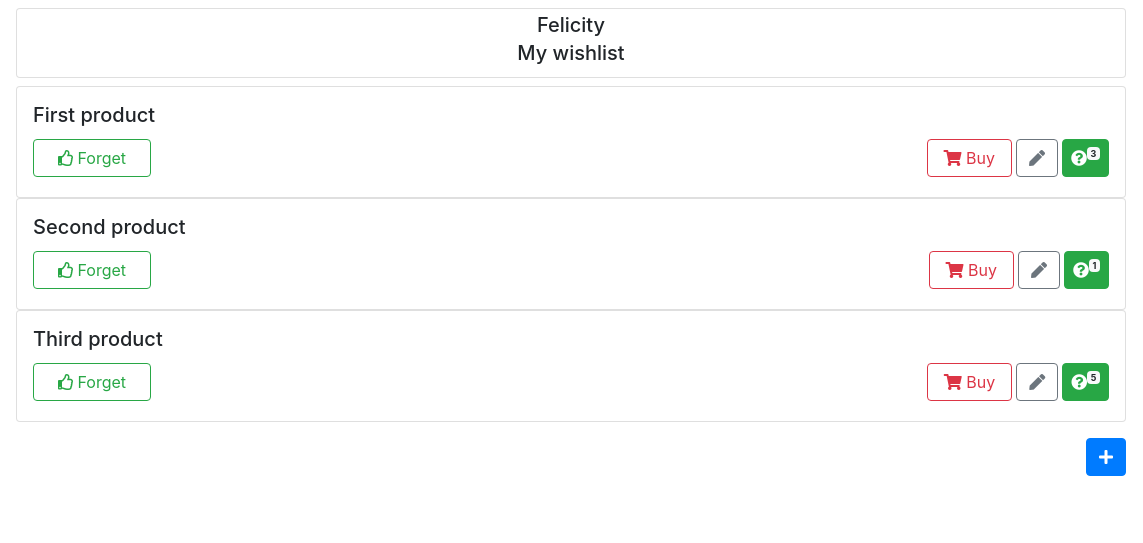
it: App acceptance tests › It is possible to edit an existing product in the list › when the button to edit an existing product is clicked › if in edit product page
Click the 1st button titled "Edit product": (1037, 158) [1016, 139, 1058, 177]
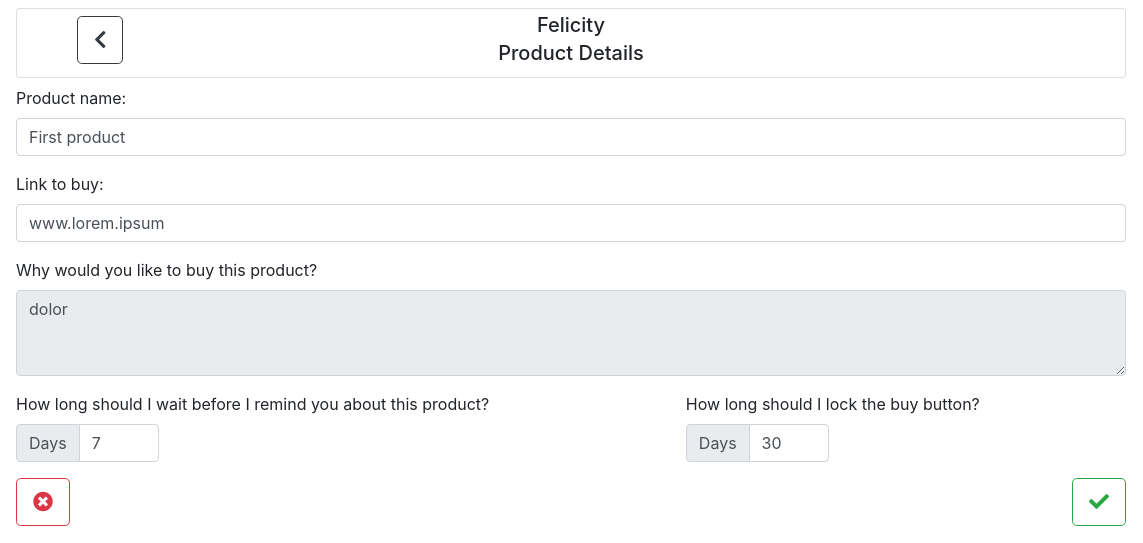
Now the text "Product Details" is shown, box [498, 41, 644, 65]
